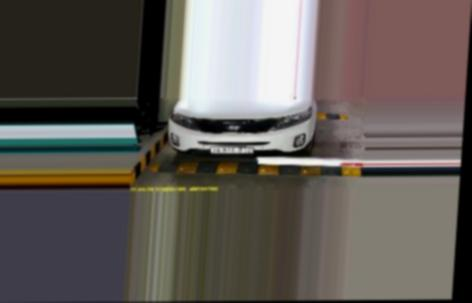License_Plate: (209, 144, 255, 155)
